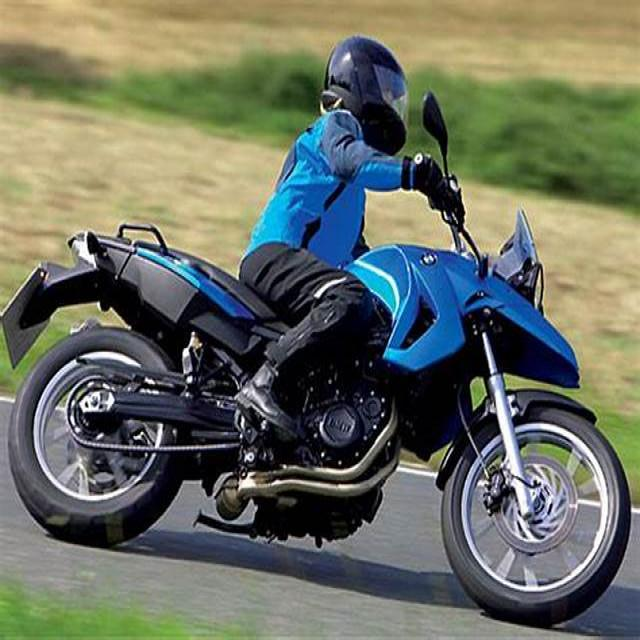helmet: (320, 30, 411, 156)
